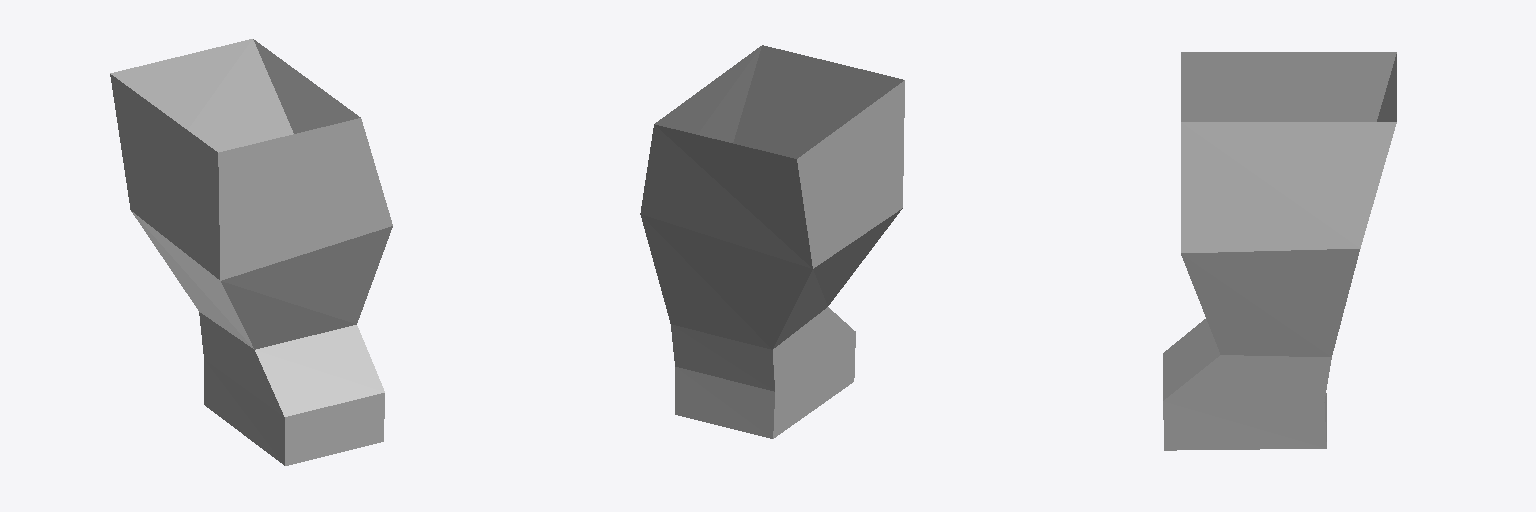
3 views of the same model, side by side, from view 1: azimuth 30°, elevation 25°; view 2: azimuth 150°, elevation 25°; view 3: azimuth 270°, elevation 25° (orthographic).
Visible parts, largest first — view 1: l_leg; view 2: l_leg; view 3: l_leg.
Part boxes in pixels (x1,y1,x2,y2): l_leg: (110, 39, 392, 465); l_leg: (640, 45, 904, 438); l_leg: (1163, 52, 1396, 450).
Size of the model in its own units: 0.1148 by 0.202 by 0.1331.